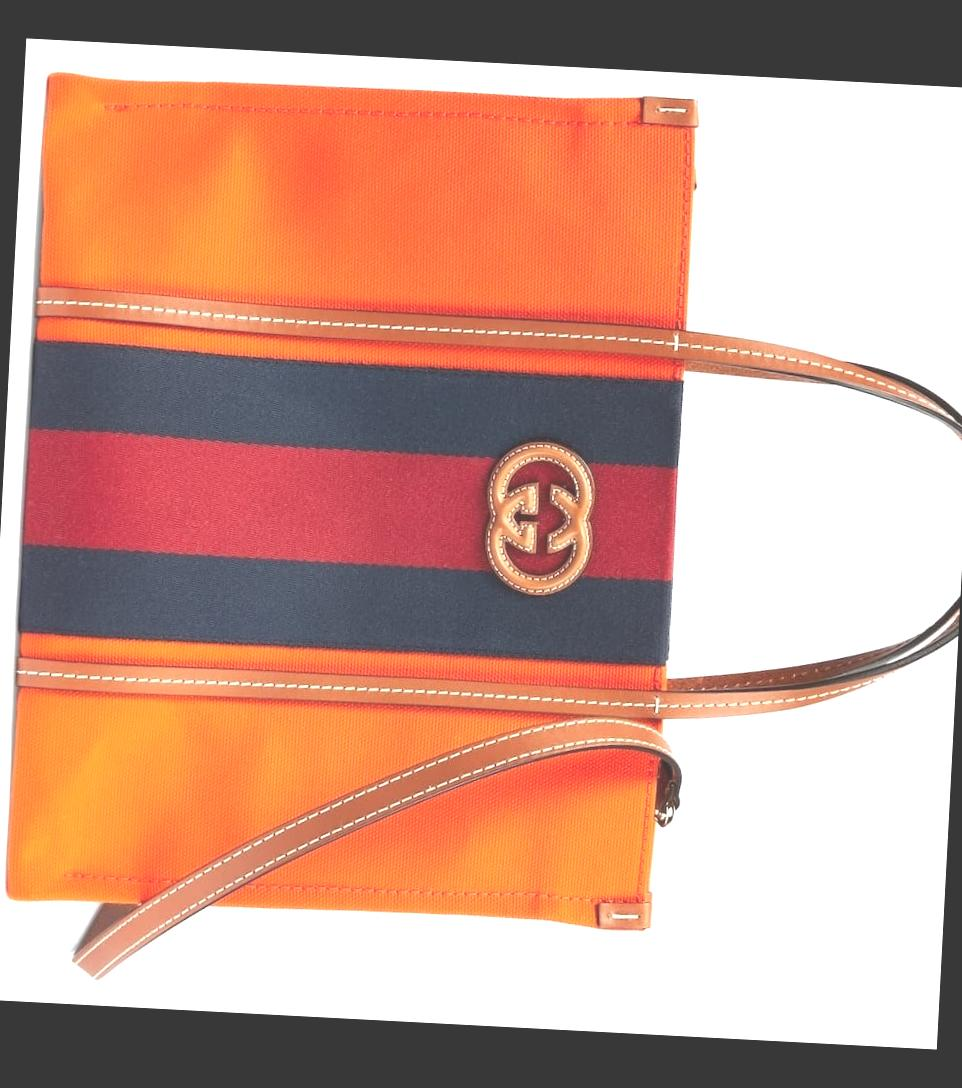GUCCI: (481, 440, 596, 599)
